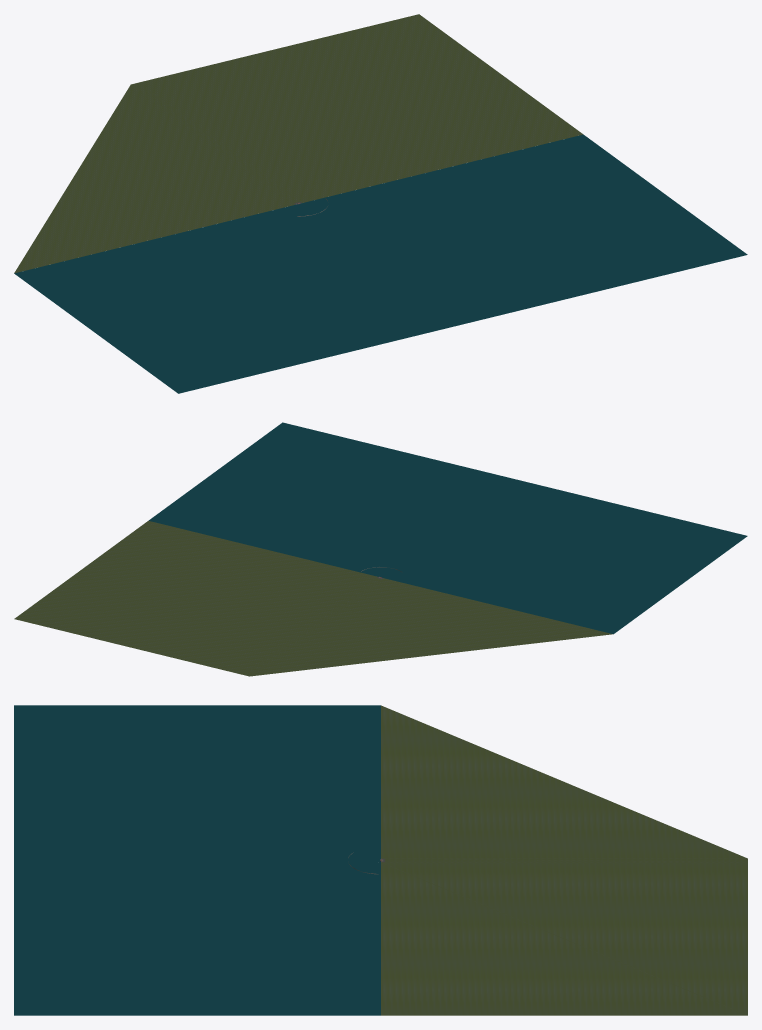
Rendered from scene.first.glb.
3 renders of one model, top to bottom at view 1: azimuth 30°, elevation 25°; view 2: azimuth 150°, elevation 25°; view 3: azimuth 270°, elevation 25°, orthographic. The views are drawn at different scales.
Visible parts, largest first — view 1: harbour_water, ground_outer; view 2: harbour_water, ground_outer; view 3: harbour_water, ground_outer.
Boxes of the visible parts, x1,y1,x2,y2 form: harbour_water: (14, 134, 747, 393); ground_outer: (14, 14, 583, 273); harbour_water: (148, 422, 747, 634); ground_outer: (14, 521, 612, 676); harbour_water: (14, 705, 380, 1015); ground_outer: (381, 705, 747, 1015).
Size of the model in its own units: 80000 by 130 by 79998.
Materials: 93 (15 with a texture image).
